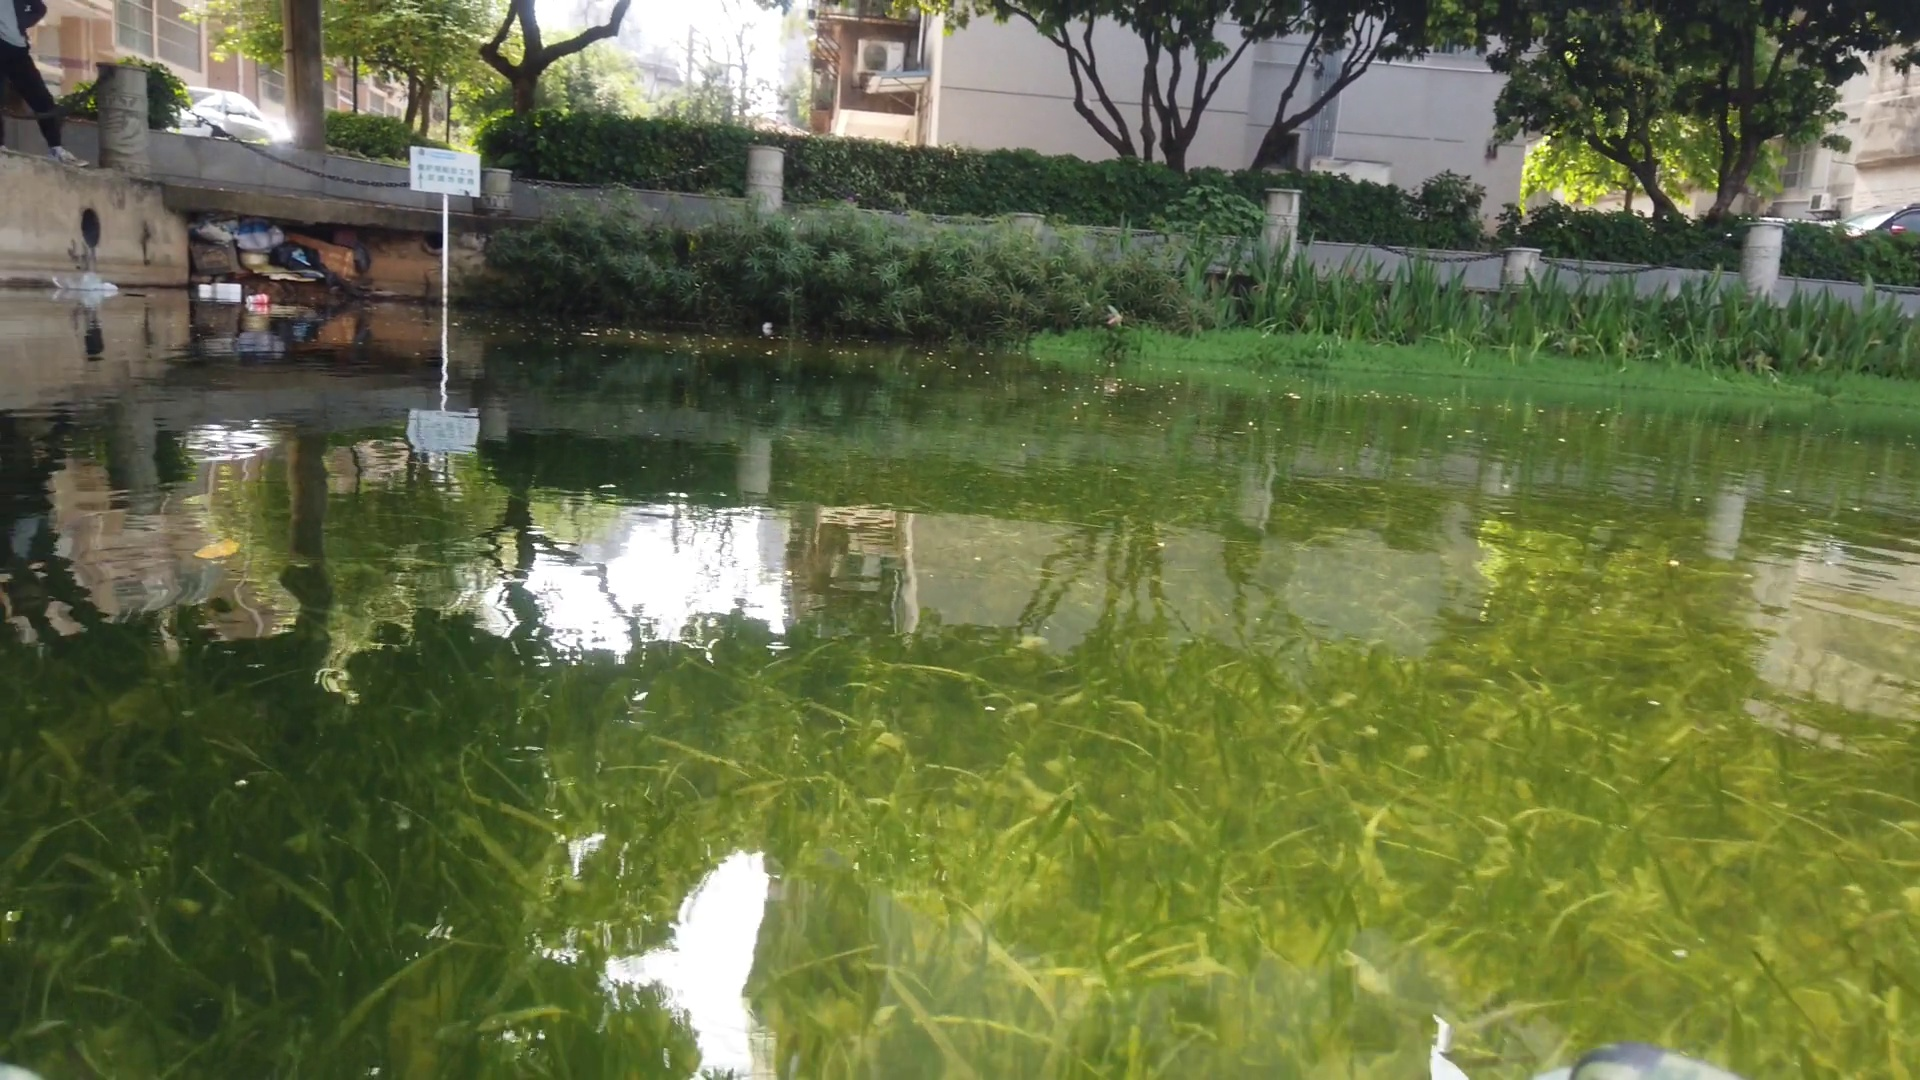bottle: (244, 293, 266, 306), (762, 319, 773, 328)
carton: (214, 280, 241, 294), (195, 284, 208, 294)
paper: (132, 287, 152, 301)
plastic: (55, 266, 123, 290)
